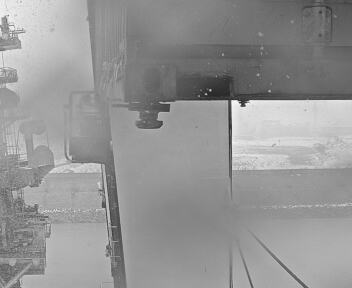twist_lock_1: (121, 97, 175, 136)
